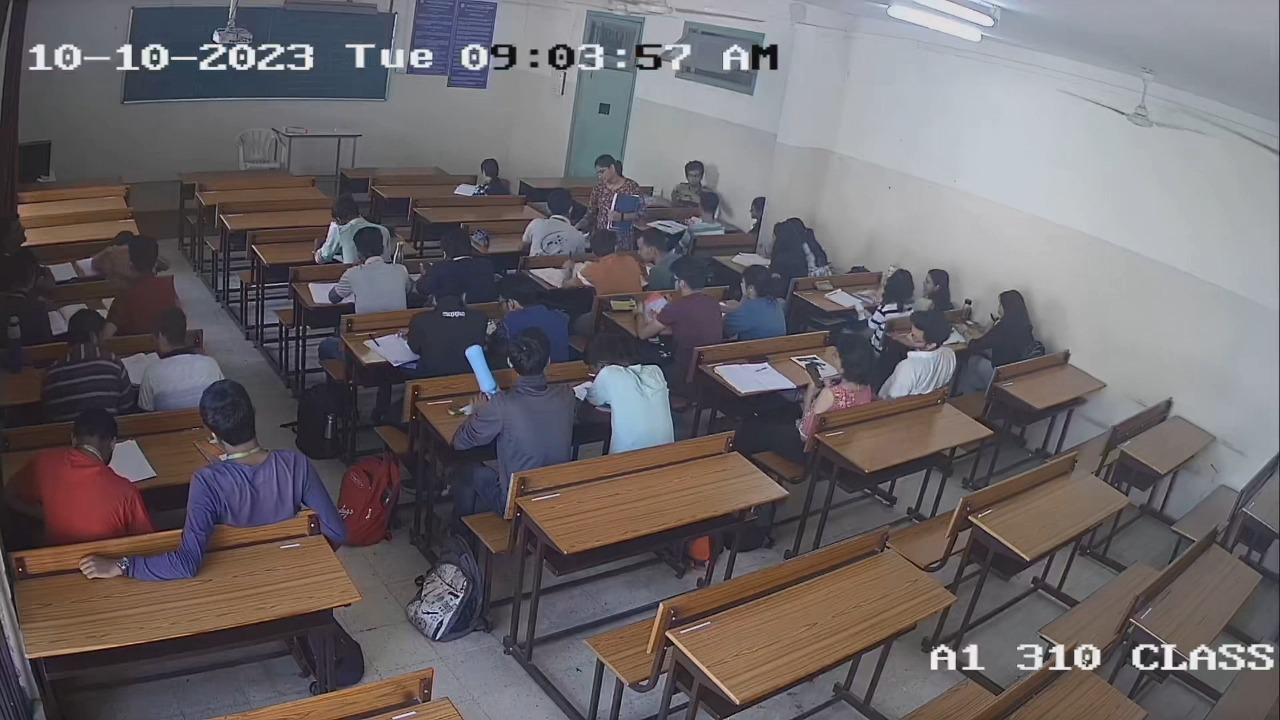cell-phones: (606, 295, 643, 314), (805, 362, 829, 391), (418, 260, 437, 277), (811, 279, 835, 292)
person: (635, 259, 724, 348), (415, 227, 500, 306), (801, 333, 878, 408), (870, 268, 915, 318)
